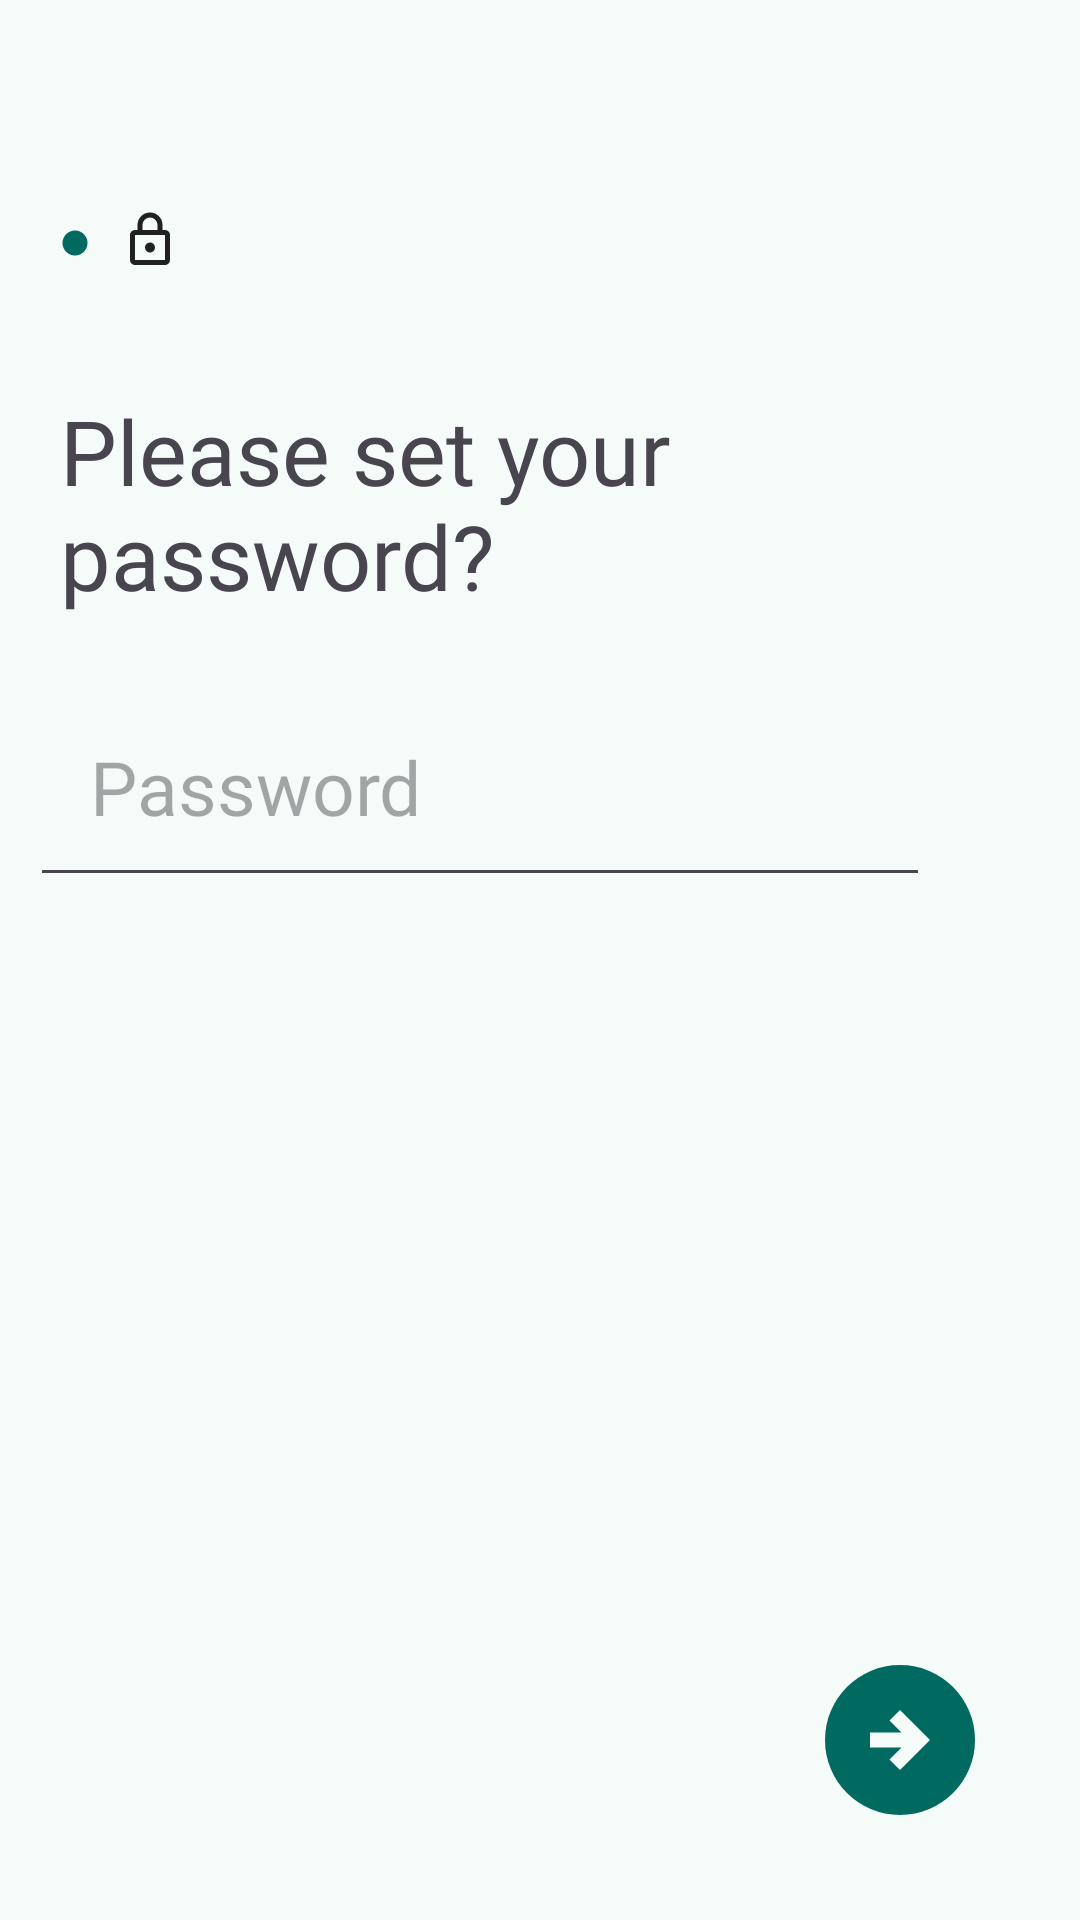

Locate icon controls on the screen. Image size 1080w x 1920h, boxes as (x1, y1, x2, y2).
lockth: (130, 212, 170, 265)
next: (825, 1665, 975, 1815)
